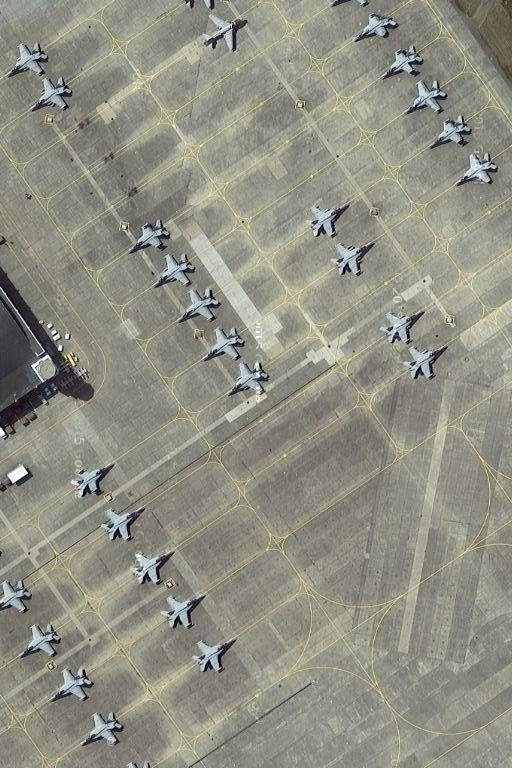F/A-18: (324, 237, 379, 279), (196, 322, 247, 367), (374, 306, 427, 349), (398, 342, 450, 385), (173, 284, 224, 327), (67, 458, 118, 501), (123, 214, 172, 258), (188, 634, 238, 677), (220, 360, 271, 402), (158, 591, 210, 632), (13, 620, 63, 662), (125, 547, 176, 588), (44, 666, 95, 707), (25, 74, 75, 115), (75, 710, 126, 750), (304, 198, 351, 241), (4, 41, 52, 83), (97, 506, 147, 545), (150, 250, 197, 290), (380, 42, 428, 79), (429, 112, 473, 152), (354, 8, 399, 47), (453, 151, 499, 188), (404, 77, 448, 115), (1, 576, 32, 618)
plane: (195, 12, 249, 56)
